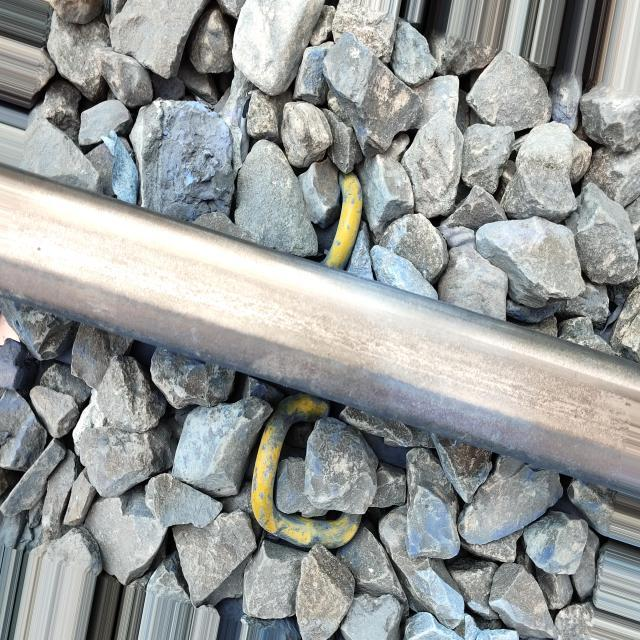Good Fasteners: (251, 393, 329, 533), (324, 173, 362, 269)
